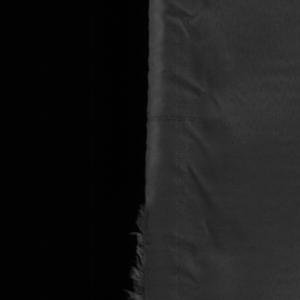Damage: (127, 199, 154, 300)
Wrinkle: (165, 1, 237, 300)
